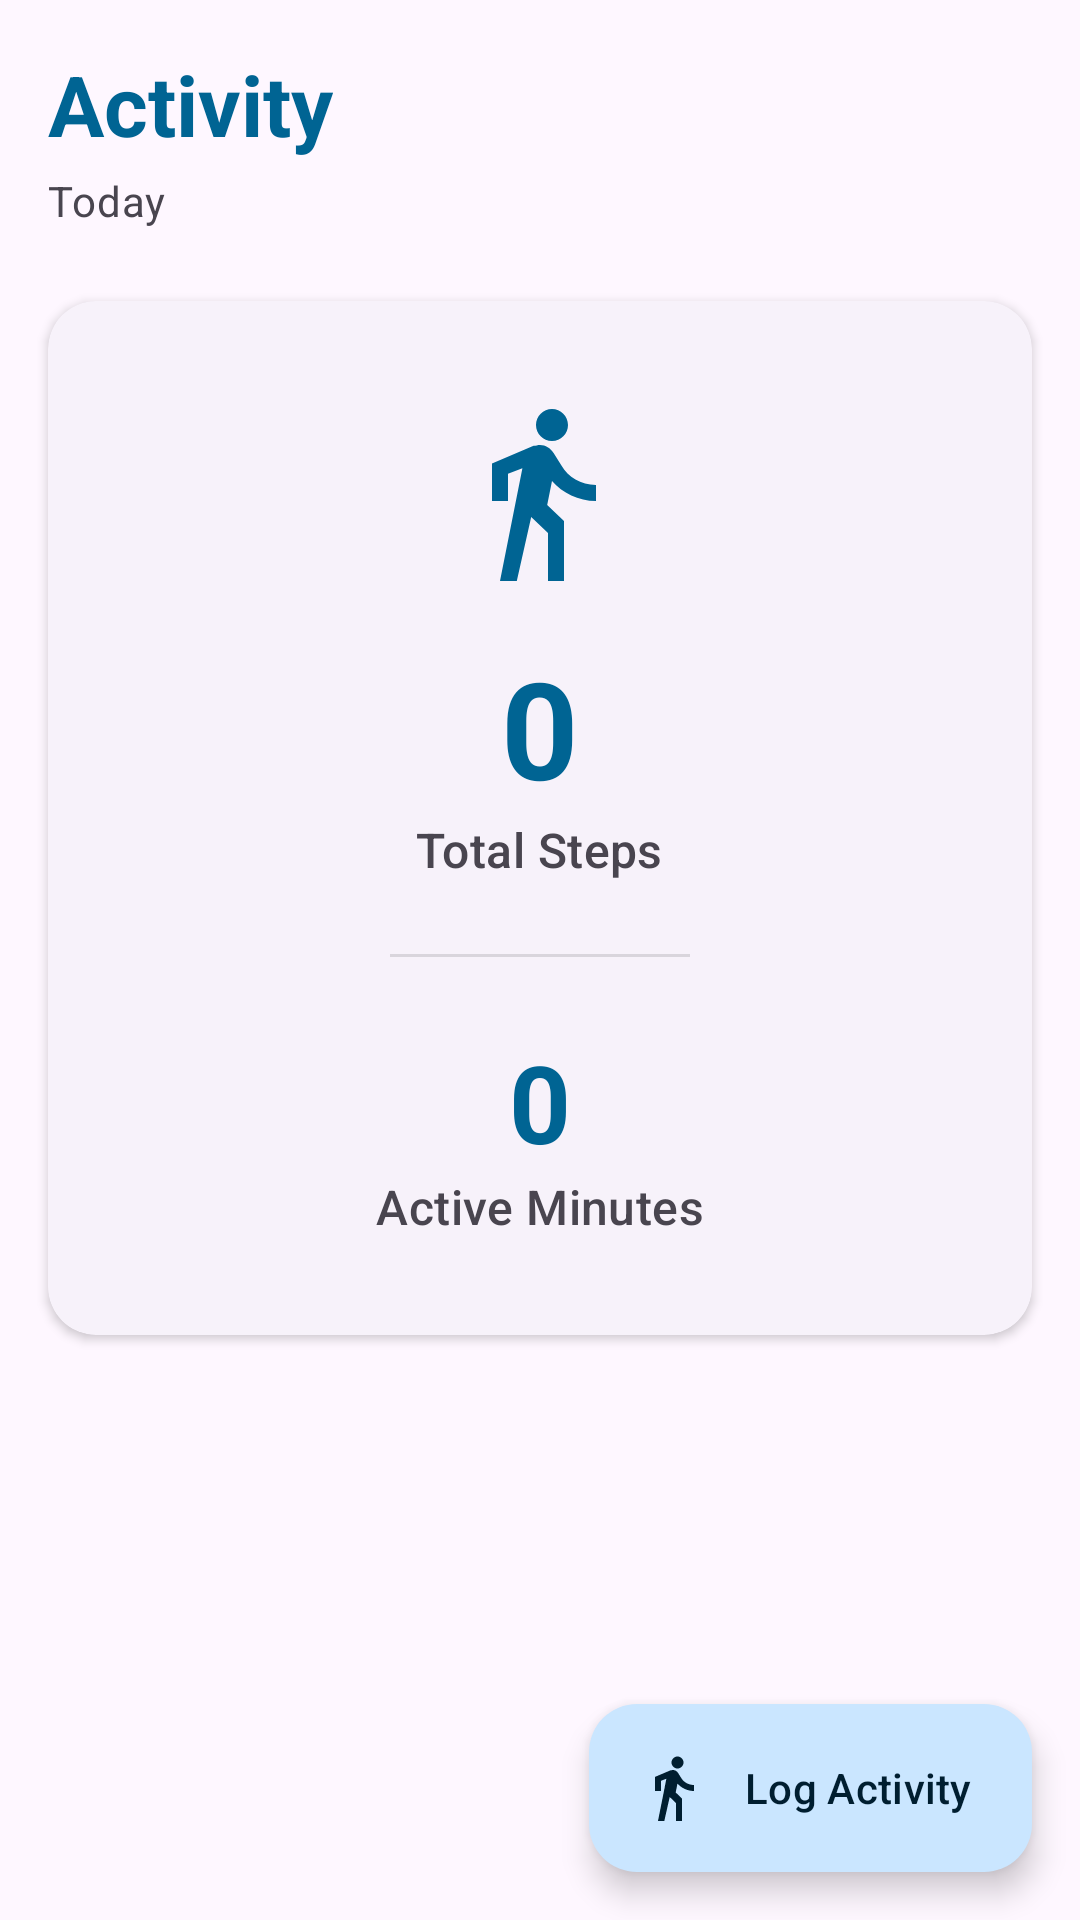

Named icons in this screenshot (1080px×1920px) and their bounding boxes, (x1, y1, x2, y2):
Activity Icon: (492, 409, 596, 581)
